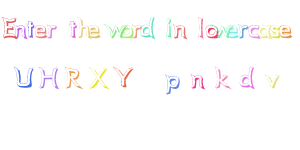E: (1, 14, 17, 39)
H: (37, 65, 61, 90)
R: (64, 65, 84, 91)
U: (13, 64, 34, 89)
X: (87, 65, 109, 90)
Y: (112, 65, 134, 89)
a: (258, 23, 271, 40)
c: (247, 23, 260, 40)
d: (238, 65, 256, 89), (140, 16, 156, 39)
e: (278, 23, 293, 40), (87, 23, 102, 39), (225, 24, 239, 39), (34, 23, 46, 39)
h: (77, 16, 90, 39)
i: (163, 17, 173, 38)
k: (213, 64, 230, 90)
l: (196, 15, 205, 40)
n: (189, 72, 207, 91), (172, 21, 188, 40), (13, 23, 27, 40)
o: (119, 23, 134, 39), (204, 23, 218, 40)
p: (163, 72, 181, 96)
r: (130, 23, 143, 39), (45, 22, 57, 39), (238, 23, 248, 39)
s: (269, 23, 281, 38)
t: (67, 18, 78, 39), (26, 18, 36, 39)
v: (264, 73, 280, 88)
w: (105, 23, 124, 39), (215, 23, 230, 38)
